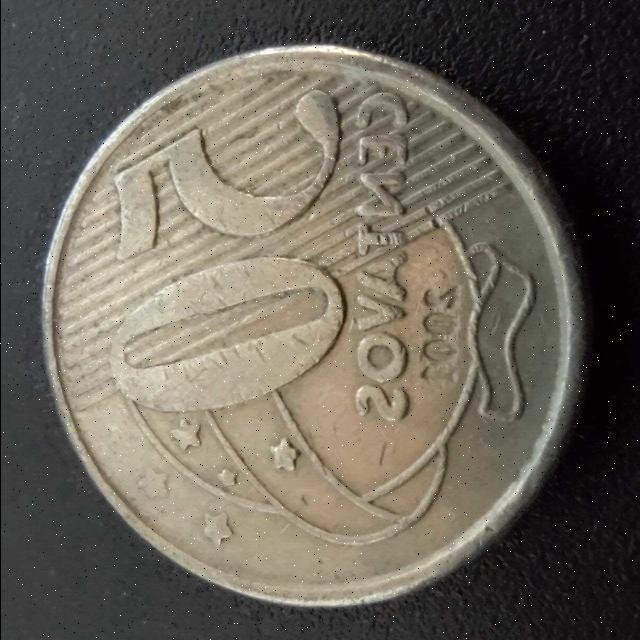50 cent: (38, 46, 590, 608)
